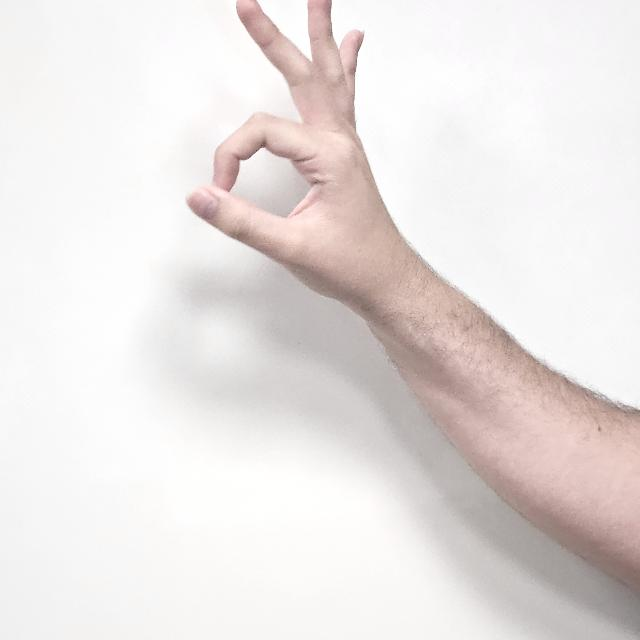Bolinha: (174, 0, 422, 314)
